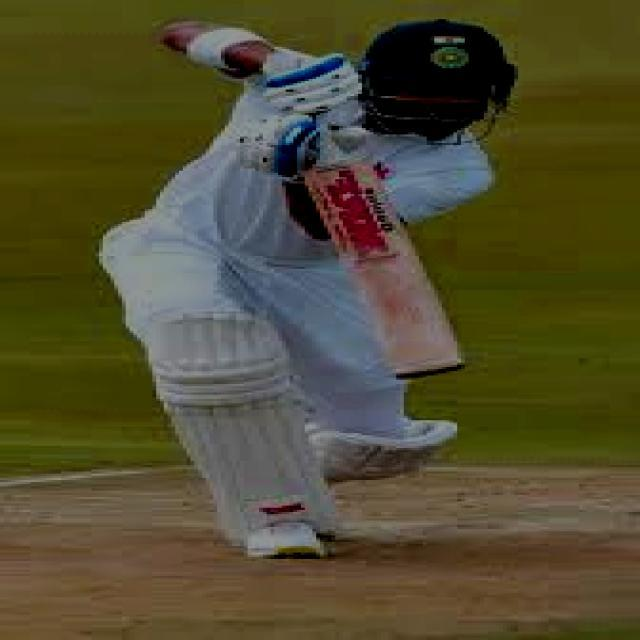bat: (290, 159, 471, 382)
toe: (397, 354, 465, 379)
